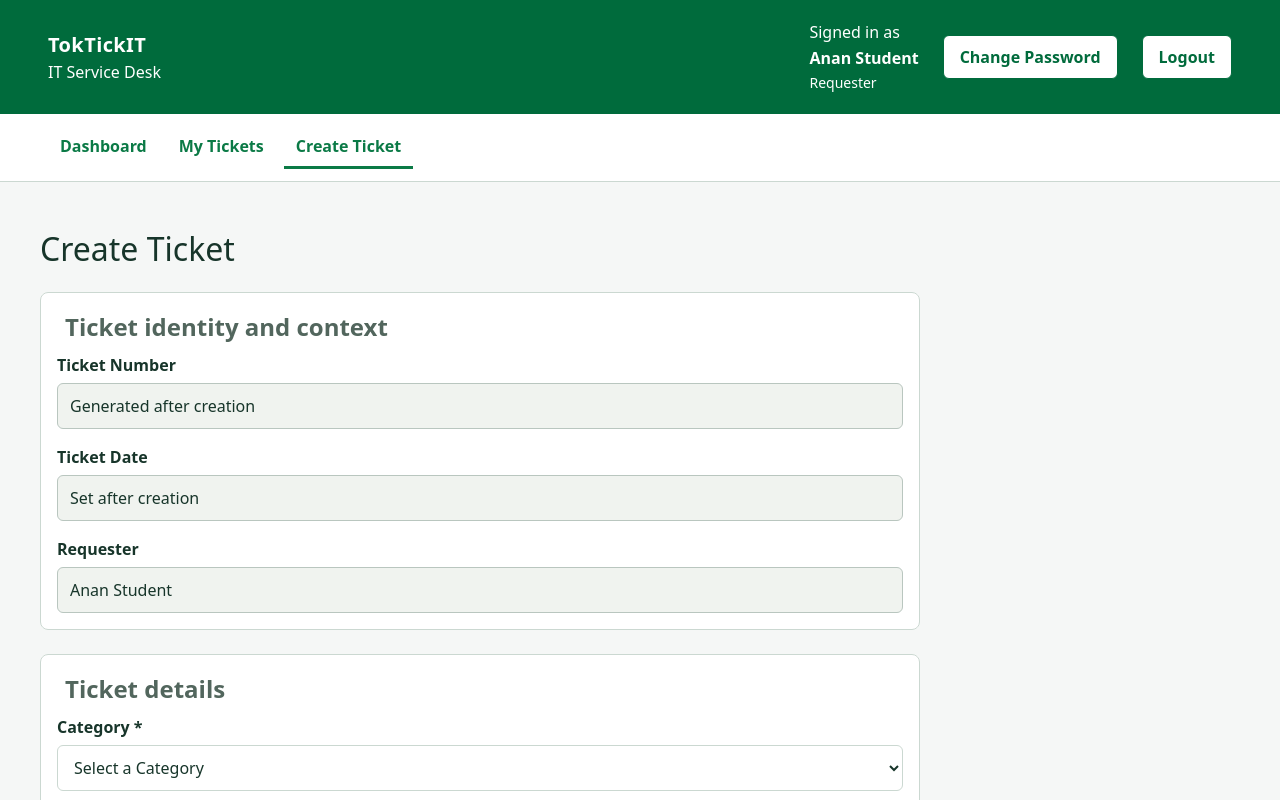
Scenario: UI-10 accessibility contract › names list actions and communicates loading/busy/pagination state
The width and height of the screenshot is (1280, 800).
Click the button "My Tickets".
click(221, 148)  # box [167,126,276,169]
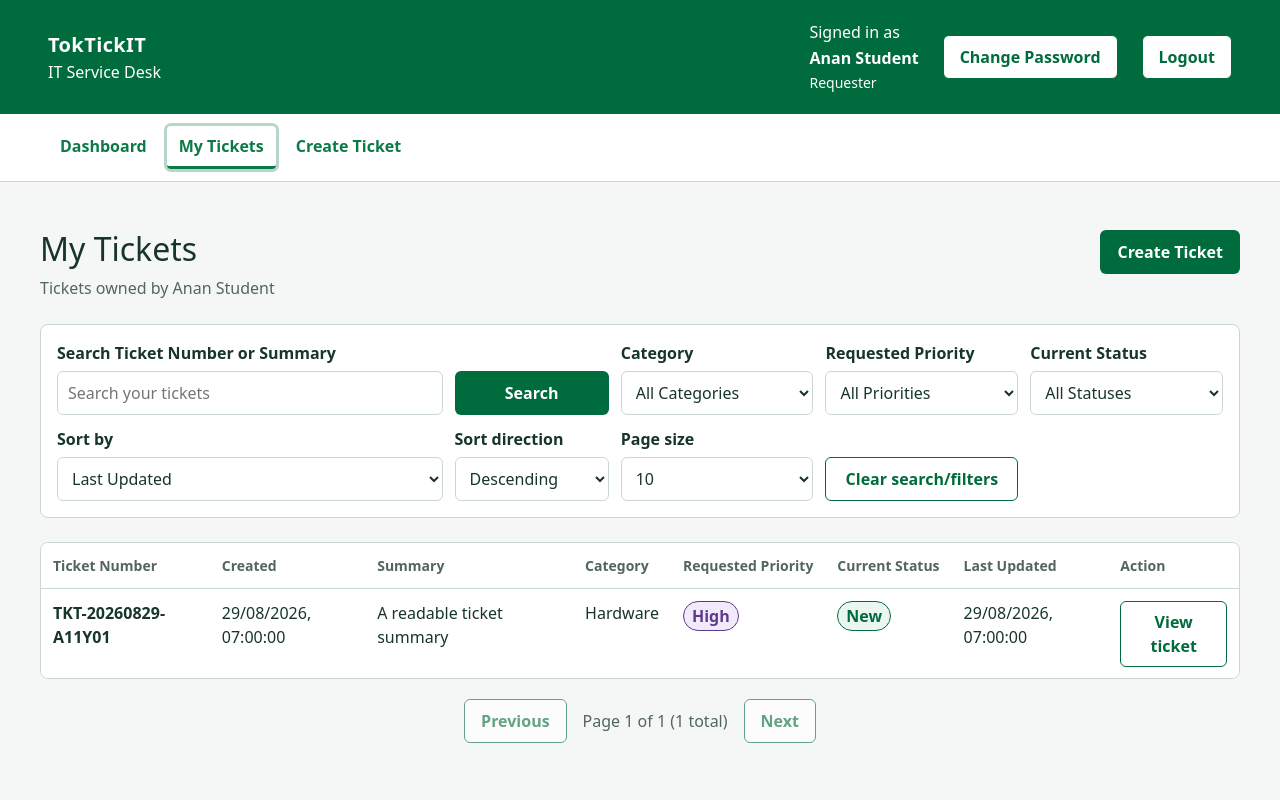
Check: the heading "My Tickets" is shown, box [40,227,197,270]
Check: the button "Previous" is disabled, box [464,699,567,743]
Check: the button "Next" is disabled, box [744,699,816,743]
